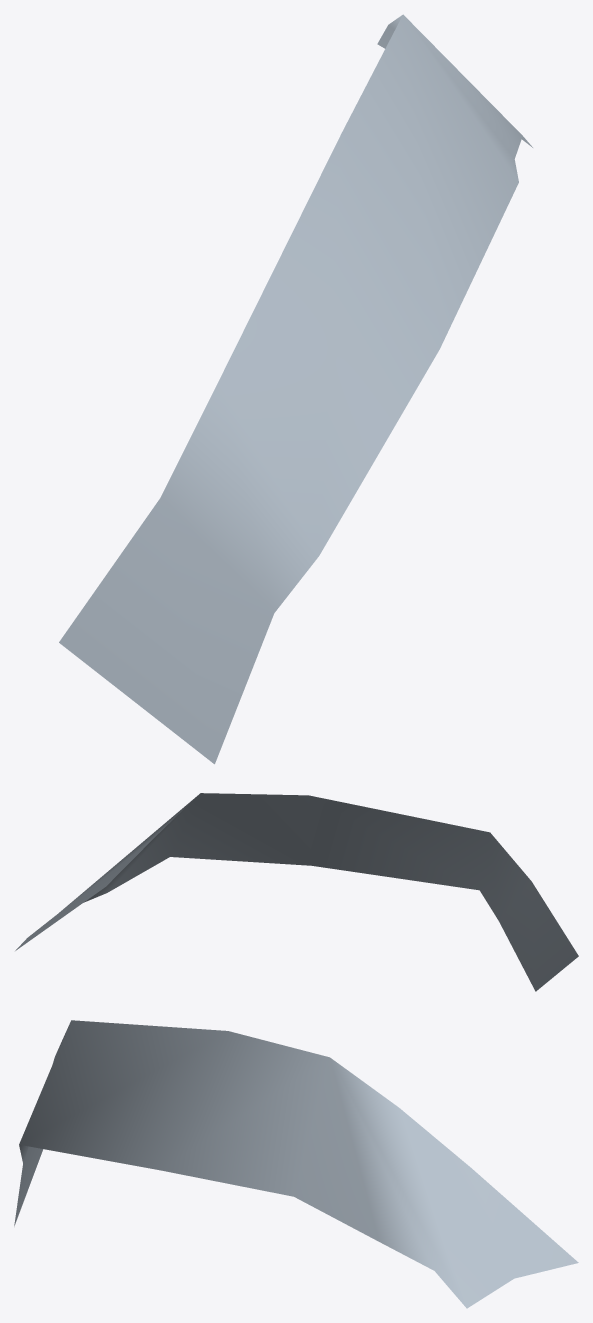
File: superior-glenohumeral-ligament-r.glb
3 views of the same model, one above another, from view 1: azimuth 30°, elevation 25°; view 2: azimuth 150°, elevation 25°; view 3: azimuth 270°, elevation 25° (orthographic). The views are drawn at different scales.
Visible parts, largest first — view 1: Superior glenohumeral ligament.r; view 2: Superior glenohumeral ligament.r; view 3: Superior glenohumeral ligament.r.
Part boxes in pixels (left/top/right/bottom): Superior glenohumeral ligament.r: left=59, top=14, right=532, bottom=764; Superior glenohumeral ligament.r: left=15, top=793, right=578, bottom=991; Superior glenohumeral ligament.r: left=14, top=1020, right=578, bottom=1308.
Bounding box in the file's own units: 0.0292 × 0.0167 × 0.0278.
